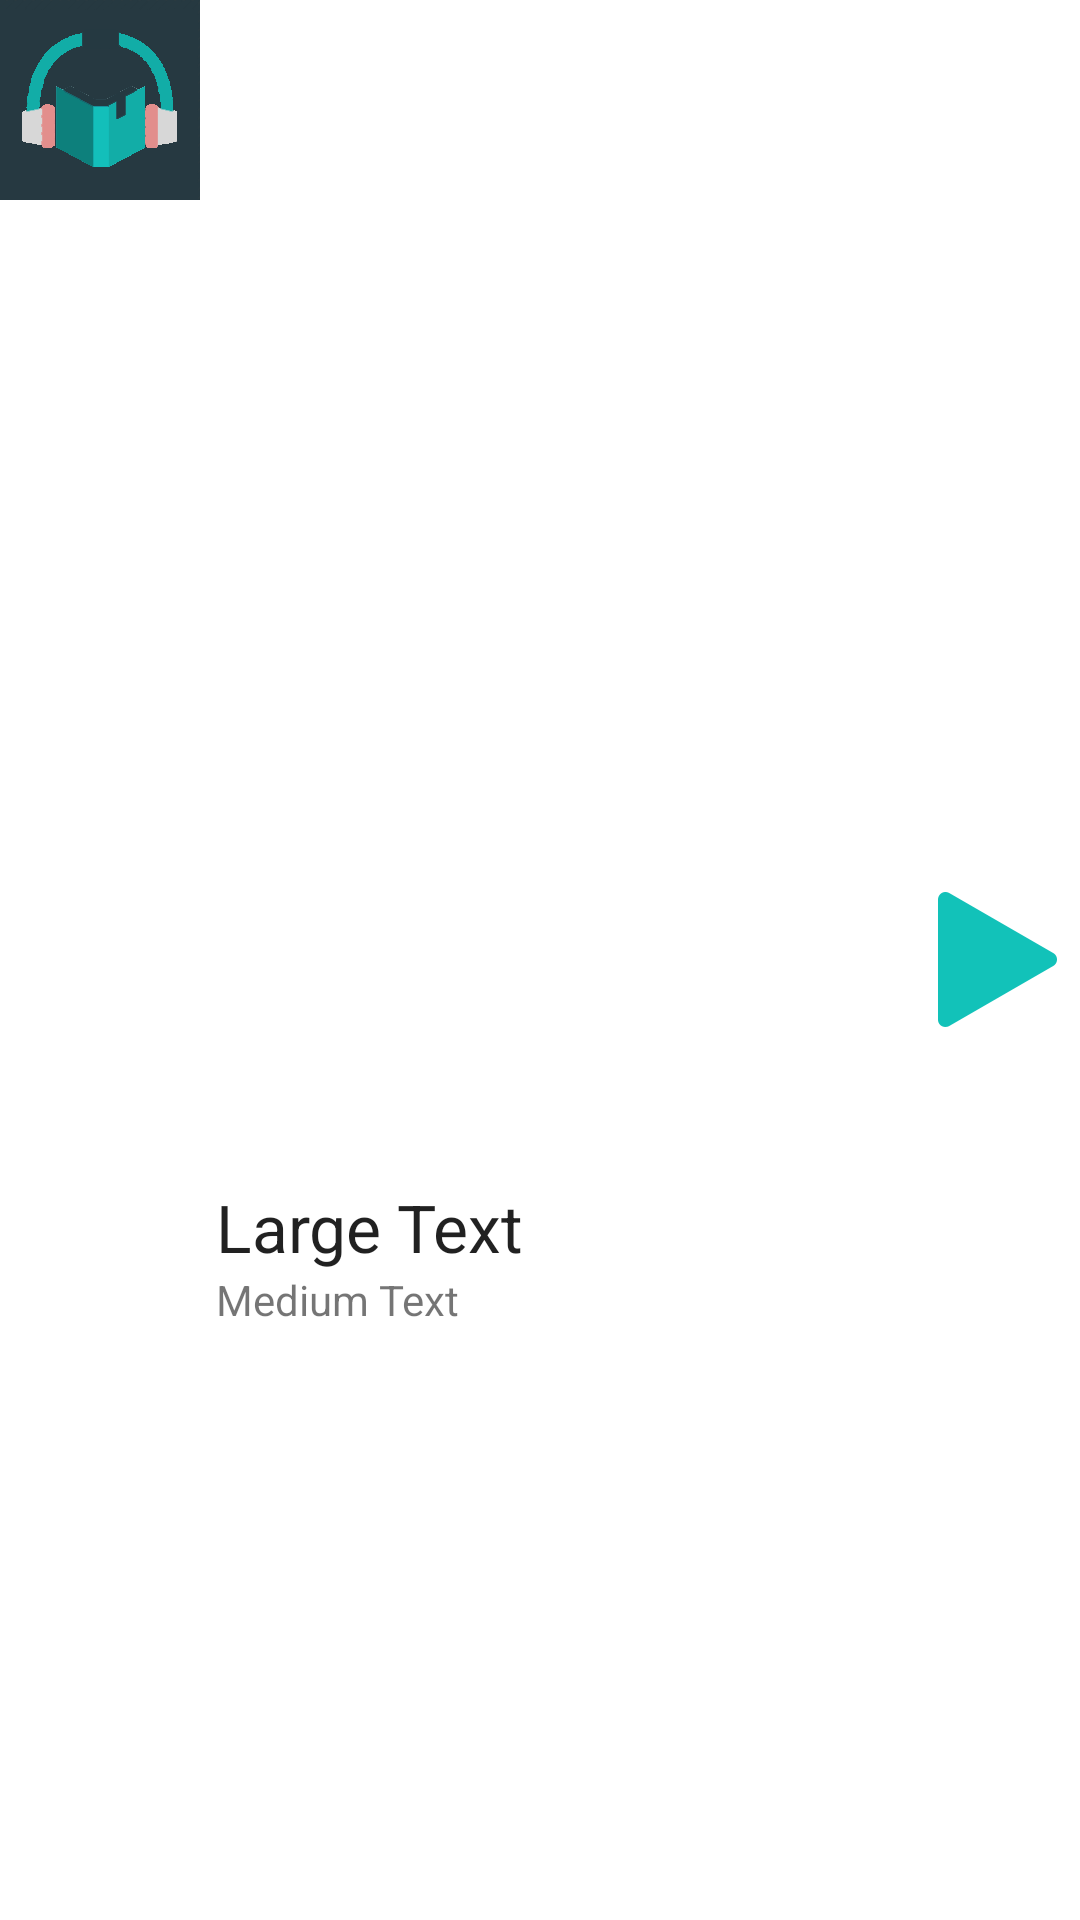

Screen size 1080 × 1920. Icon name, then its box in pixels as (x1, y1, x2, y2):
playbtn bar: (938, 892, 1057, 1027)
